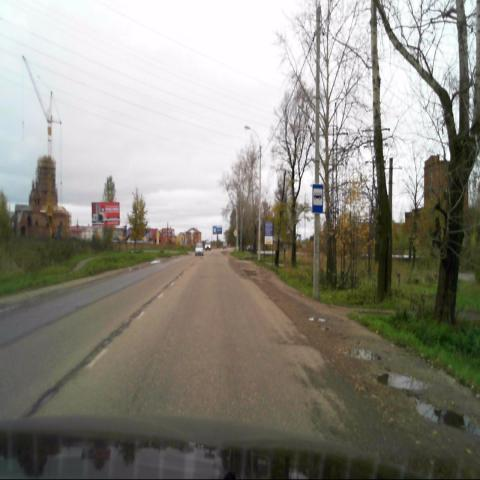5_16: (312, 184, 323, 212)
